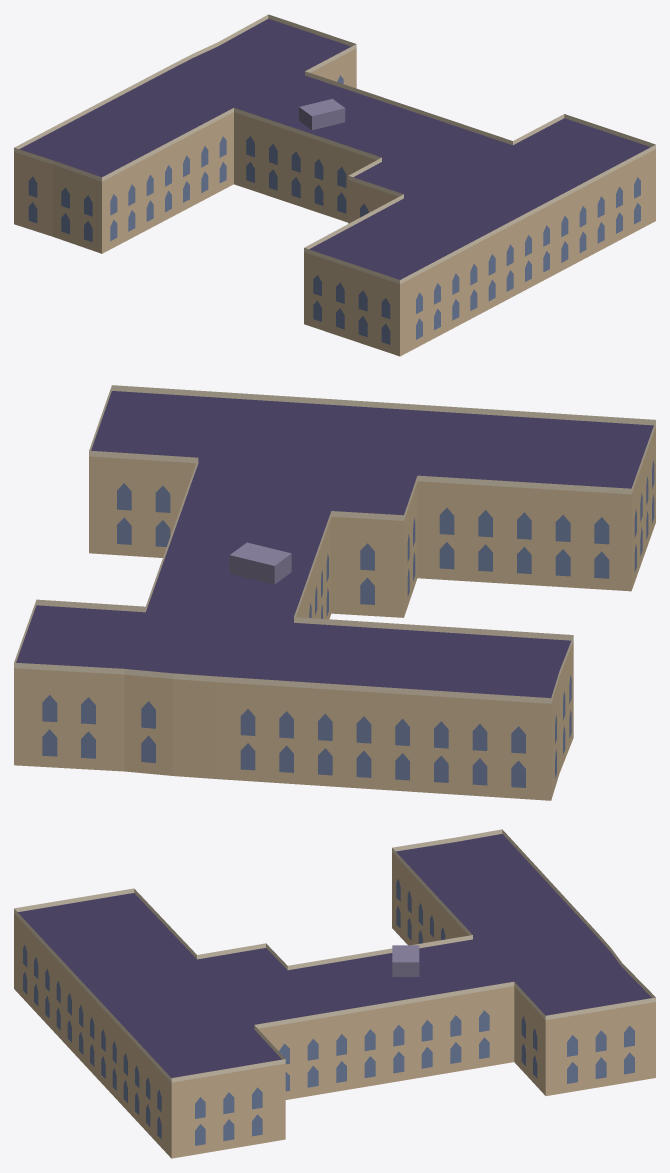
File: b-024-day.glb
3 renders of one model, top to bottom at view 1: azimuth 30°, elevation 25°; view 2: azimuth 150°, elevation 25°; view 3: azimuth 270°, elevation 25°, orthographic. The views are drawn at different scales.
Parts seen in each view (by area): view 1: campus/b-024-day-0; view 2: campus/b-024-day-0; view 3: campus/b-024-day-0.
Part boxes in pixels (x1=…): campus/b-024-day-0: x1=14, y1=14, x2=655, y2=356; campus/b-024-day-0: x1=14, y1=385, x2=655, y2=800; campus/b-024-day-0: x1=14, y1=829, x2=655, y2=1158.
Bounding box in the file's own units: 65.29 × 11.1 × 71.18.
